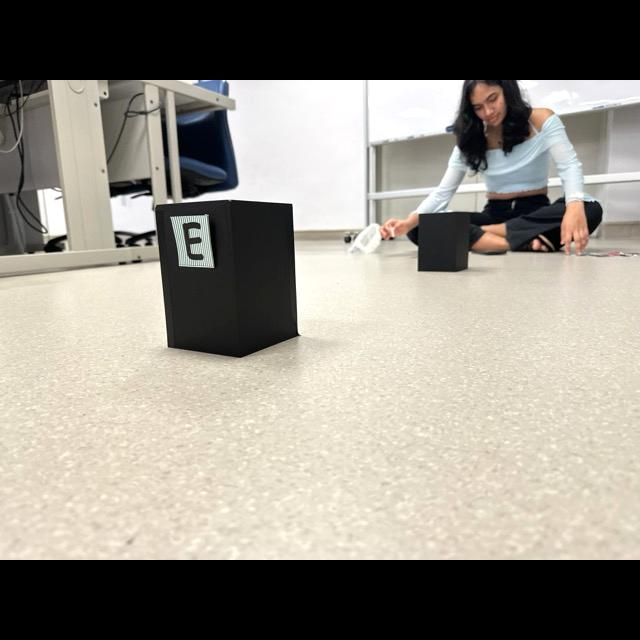E: (182, 221, 204, 260)
